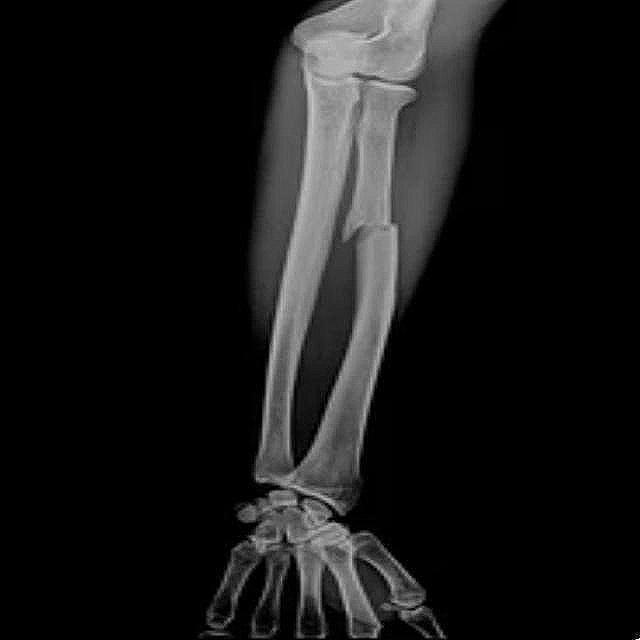bone: (338, 193, 417, 271)
